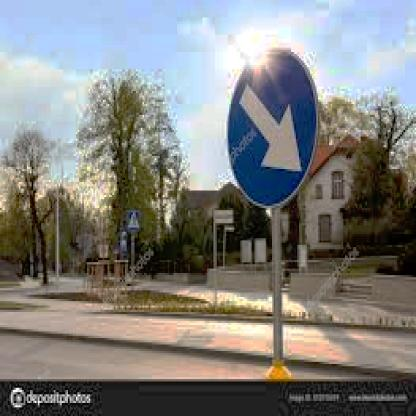Keep right: (222, 46, 321, 213)
